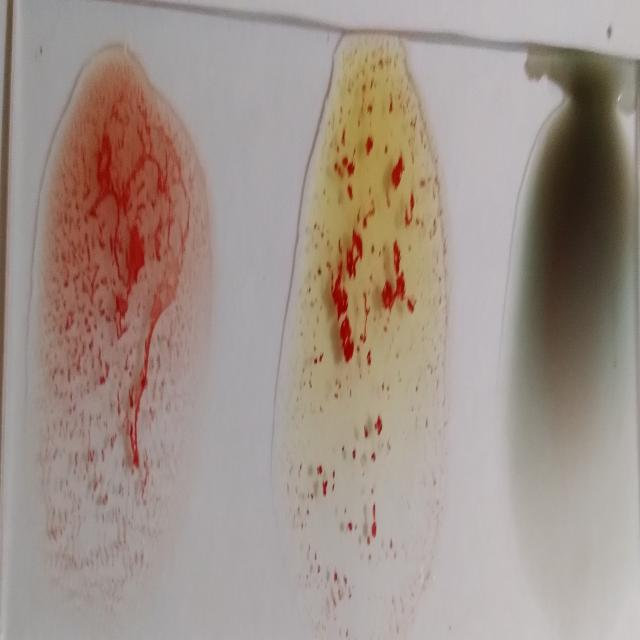B: (284, 45, 439, 618)
D: (38, 61, 200, 606)
